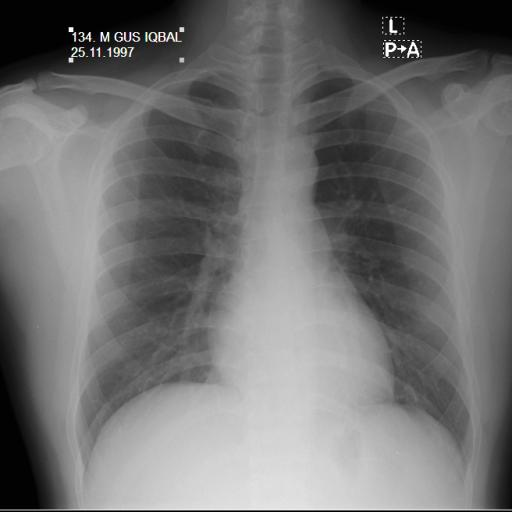normal: (67, 51, 491, 493)
